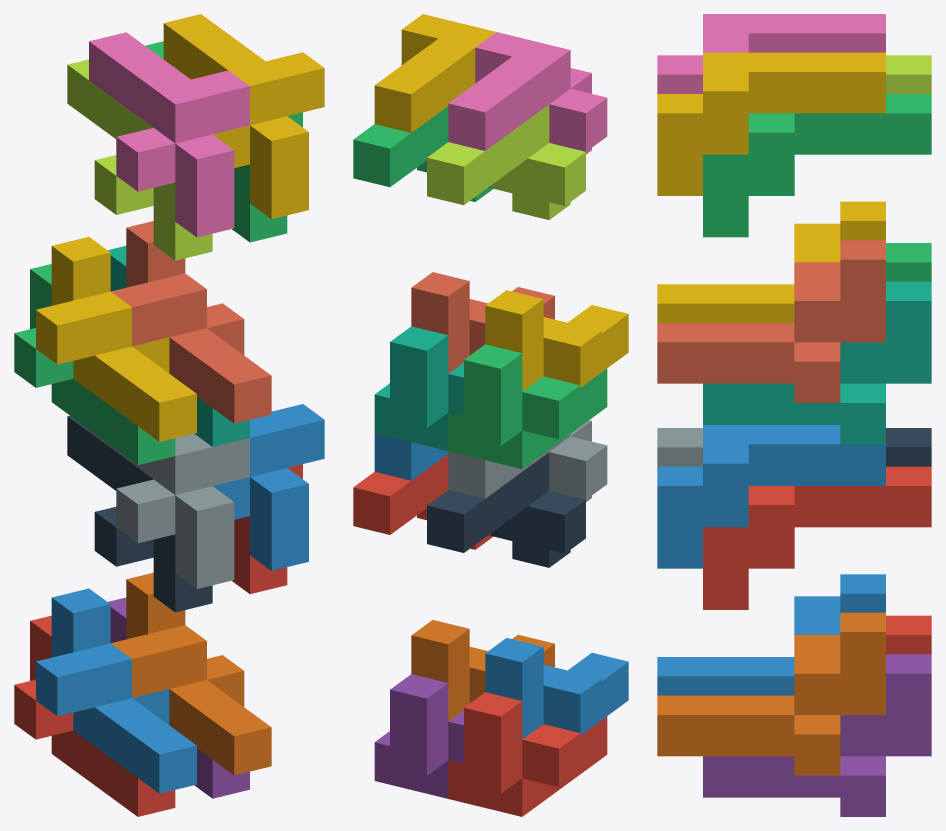
Rendered from tiling.obj.
The picture shows the model from 3 angles, left to right: view 1: azimuth 30°, elevation 25°; view 2: azimuth 150°, elevation 25°; view 3: azimuth 270°, elevation 25°; orthographic projection. The views are drawn at different scales.
Parts seen in each view (by area): view 1: copy_2_domain_4, copy_1_domain_4, copy_1_domain_2, copy_2_domain_8, copy_1_domain_8, copy_1_domain_6, copy_2_domain_2, copy_2_domain_6, copy_2_domain_3, copy_2_domain_1, copy_1_domain_3, copy_1_domain_1 (+4 smaller); view 2: copy_2_domain_4, copy_1_domain_3, copy_1_domain_1, copy_2_domain_3, copy_2_domain_1, copy_1_domain_2, copy_1_domain_4, copy_2_domain_8, copy_1_domain_5, copy_1_domain_7, copy_2_domain_2, copy_1_domain_8 (+4 smaller); view 3: copy_1_domain_6, copy_1_domain_8, copy_2_domain_8, copy_2_domain_6, copy_2_domain_5, copy_2_domain_7, copy_1_domain_5, copy_1_domain_7, copy_1_domain_4, copy_1_domain_2, copy_2_domain_4, copy_1_domain_1 (+4 smaller).
Boxes of the visible parts, x1,y1,x2,y2 form: copy_2_domain_4: (89, 32, 249, 237); copy_1_domain_4: (36, 237, 196, 441); copy_1_domain_2: (36, 588, 196, 793); copy_2_domain_8: (163, 14, 324, 219); copy_1_domain_8: (111, 221, 271, 423); copy_1_domain_6: (111, 572, 271, 775); copy_2_domain_2: (89, 429, 249, 588); copy_2_domain_6: (213, 404, 324, 570); copy_2_domain_3: (67, 59, 212, 260); copy_2_domain_1: (67, 416, 212, 612); copy_1_domain_3: (14, 264, 175, 464); copy_1_domain_1: (14, 615, 175, 816); copy_2_domain_4: (448, 32, 607, 154); copy_1_domain_3: (448, 344, 607, 468); copy_1_domain_1: (448, 692, 607, 816); copy_2_domain_3: (427, 104, 585, 219); copy_2_domain_1: (427, 452, 585, 567); copy_1_domain_2: (485, 638, 628, 739); copy_1_domain_4: (485, 290, 628, 391); copy_2_domain_8: (374, 14, 496, 132); copy_1_domain_5: (374, 674, 463, 798); copy_1_domain_7: (374, 326, 463, 450); copy_2_domain_2: (448, 420, 607, 501); copy_1_domain_8: (411, 272, 554, 373); copy_1_domain_6: (657, 612, 885, 775); copy_1_domain_8: (657, 240, 885, 402); copy_2_domain_8: (657, 52, 885, 195); copy_2_domain_6: (657, 425, 885, 568); copy_2_domain_5: (703, 466, 931, 609); copy_2_domain_7: (703, 94, 931, 237); copy_1_domain_5: (703, 654, 931, 816); copy_1_domain_7: (703, 281, 931, 444); copy_1_domain_4: (657, 201, 885, 322); copy_1_domain_2: (657, 574, 885, 695); copy_2_domain_4: (657, 14, 885, 93); copy_1_domain_1: (886, 615, 931, 654).
Bounding box in the file's own units: 6 × 18 × 6.
